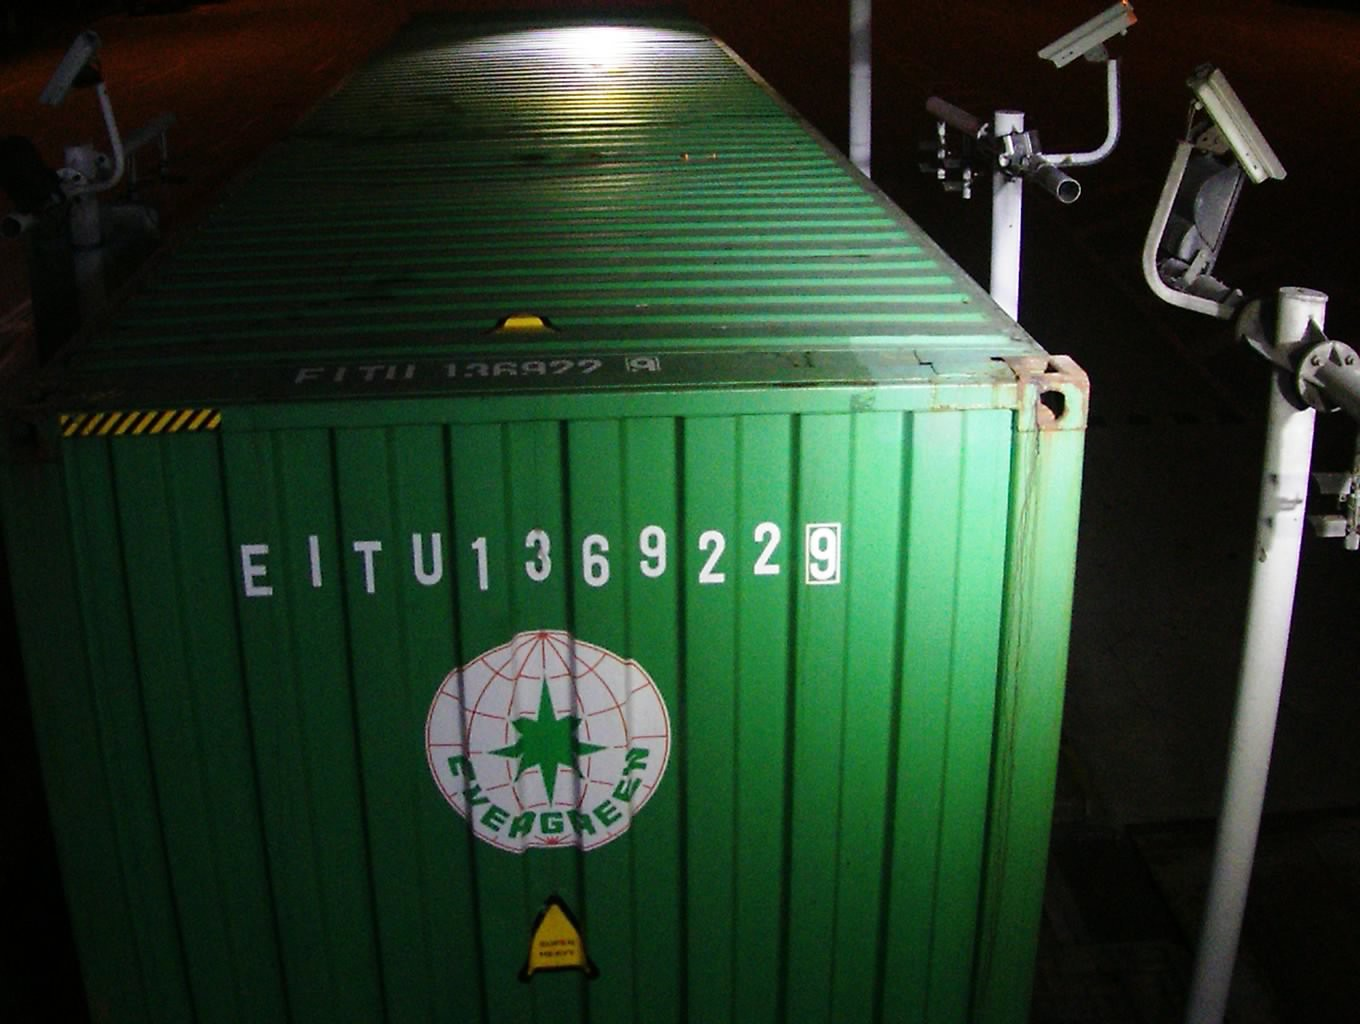words: (232, 525, 849, 599)
